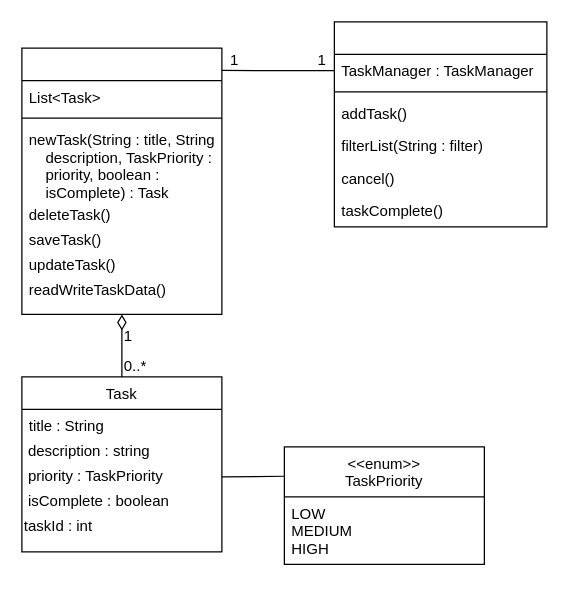
Image size: 569x590. Some labels were removed from this diagram. The shapes that lost their labels are listed below. From the top down, each one's box as (x1, y1, x2, y2) in pixels, then its label:
(333, 21, 547, 227): GuiTaskTracker
(21, 47, 222, 314): TaskManager
